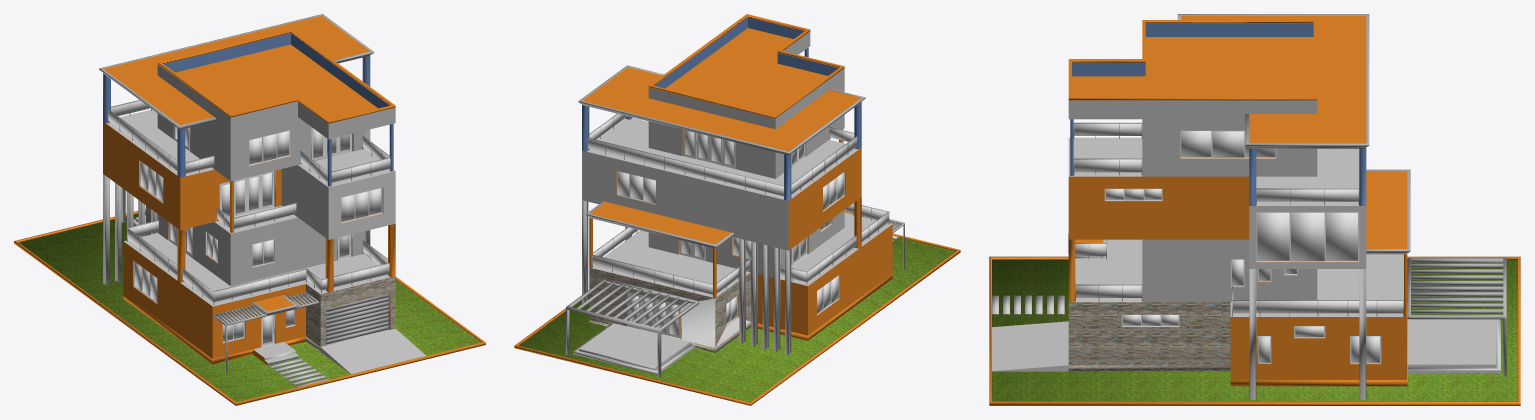
Rendered from residential_4.fbx.
3 views of the same model, side by side, from view 1: azimuth 30°, elevation 25°; view 2: azimuth 150°, elevation 25°; view 3: azimuth 270°, elevation 25° (orthographic). The views are drawn at different scales.
Visible parts, largest first — view 1: uploads_files_443652_245_House13_obj; view 2: uploads_files_443652_245_House13_obj; view 3: uploads_files_443652_245_House13_obj.
Boxes of the visible parts, left/top/right/bottom form: uploads_files_443652_245_House13_obj: left=14, top=14, right=485, bottom=405; uploads_files_443652_245_House13_obj: left=514, top=14, right=960, bottom=405; uploads_files_443652_245_House13_obj: left=989, top=14, right=1520, bottom=405.
Bounding box in the file's own units: 5984 × 5240 × 9191.
